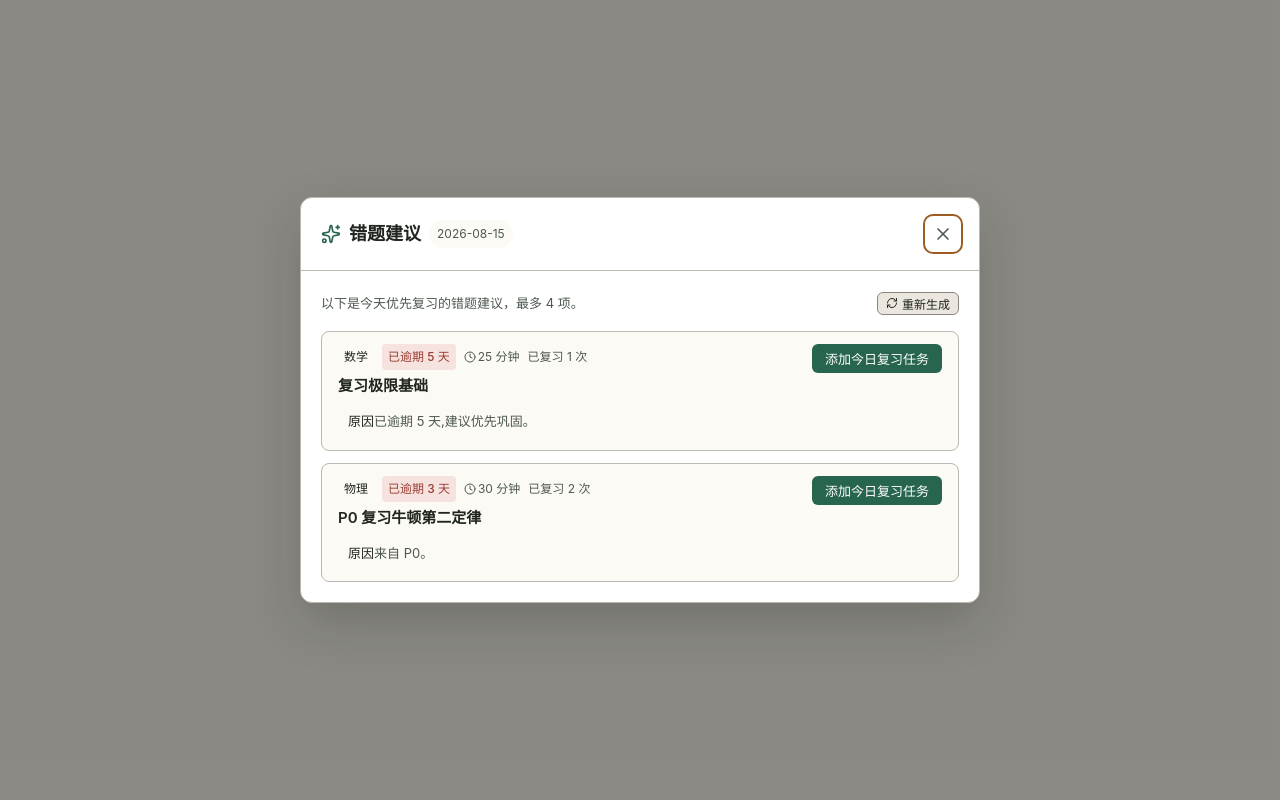
Test: MistakeReviewAgentDialog Component › handles uncertain result and allows retry with the SAME operation_id
Expected: the element with test id "mistake-review-candidate-list" is shown, x1=321 y1=291 x2=959 y2=582
What coordinates should you click on to do the following:
click the button with test id "mistake-review-confirm-btn-0"
I would click on:
 (877, 358)
Its box is x1=812 y1=344 x2=942 y2=373.
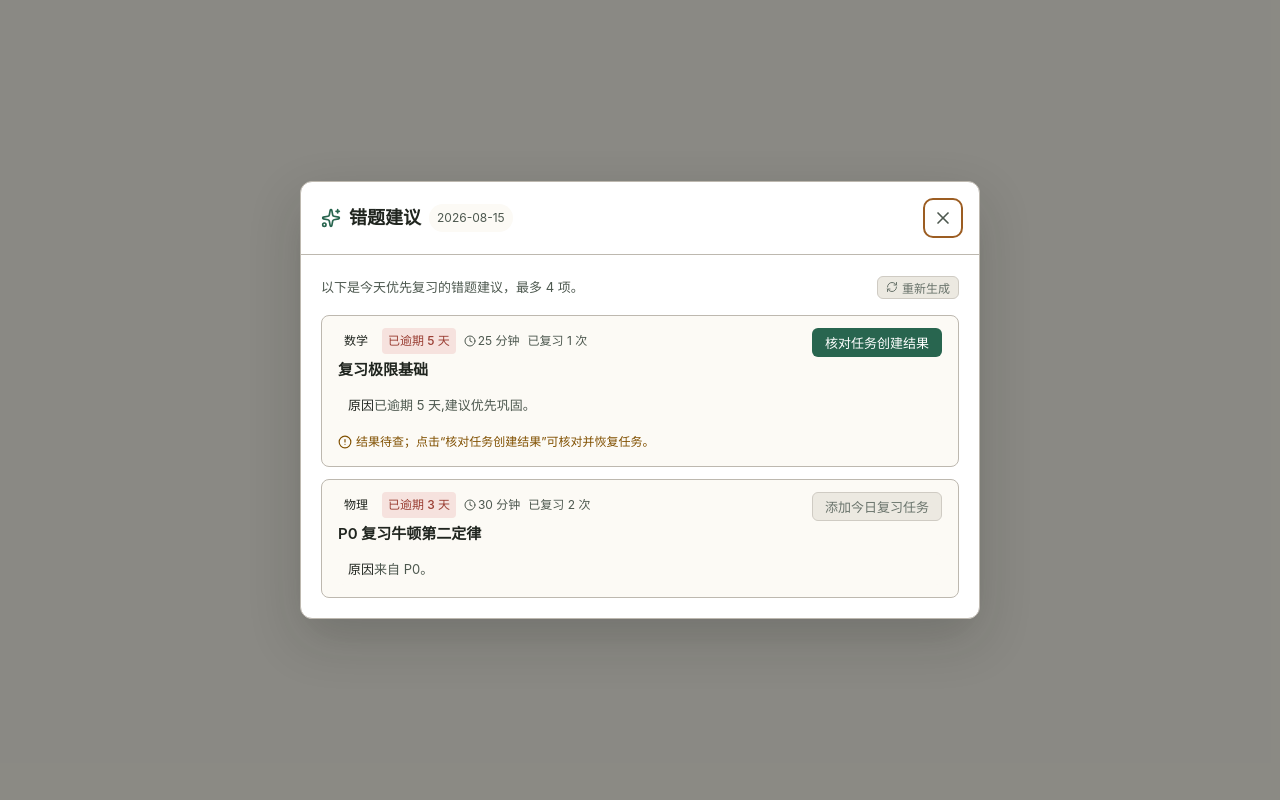
Expected: the element with test id "mistake-review-card-uncertain-0" is shown, x1=338 y1=434 x2=655 y2=448
Expected: the button with test id "mistake-review-confirm-btn-1" is disabled, x1=812 y1=492 x2=942 y2=520
Expected: the button with test id "mistake-review-confirm-btn-0" reads "核对任务创建结果"
What coordinates should you click on to do the following:
click the button with test id "mistake-review-confirm-btn-0"
I would click on:
 (877, 342)
Its box is x1=812 y1=328 x2=942 y2=357.
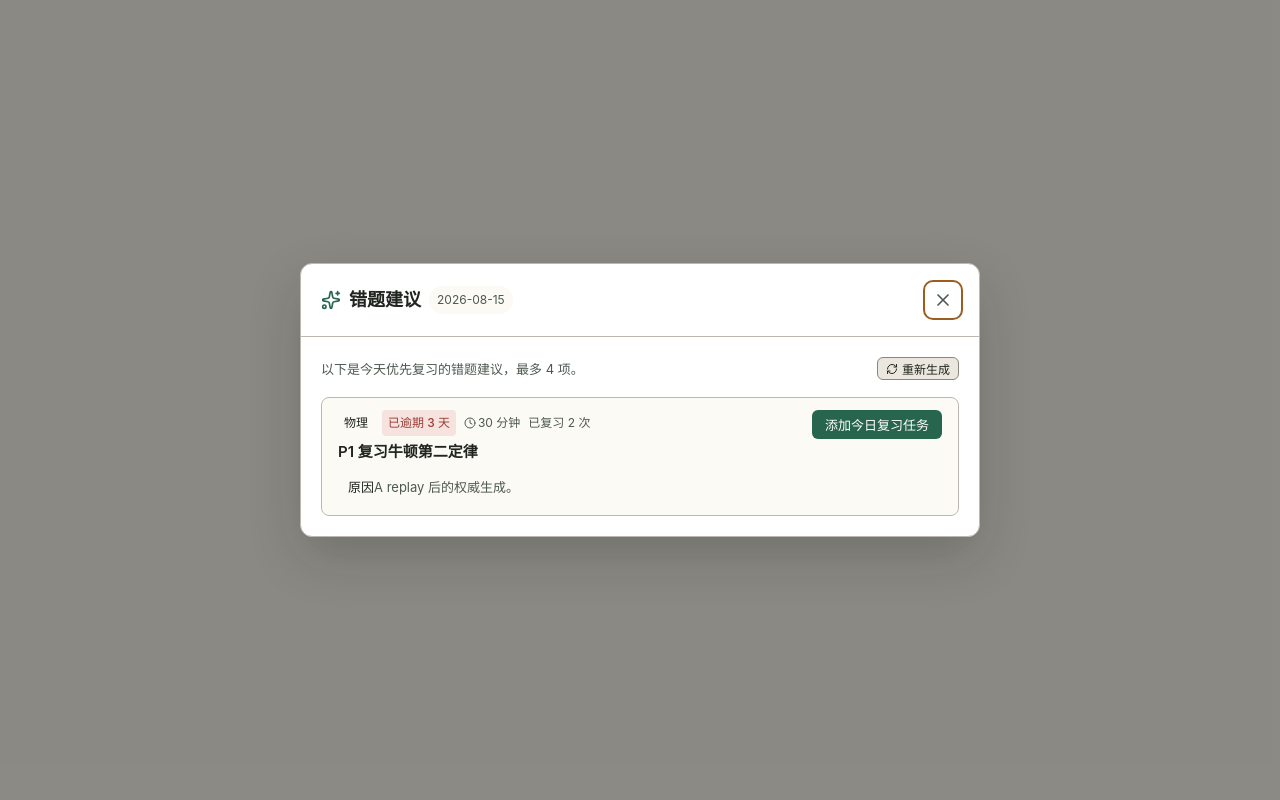
Expected: the heading "P1 复习牛顿第二定律" is shown, x1=338 y1=442 x2=478 y2=461
